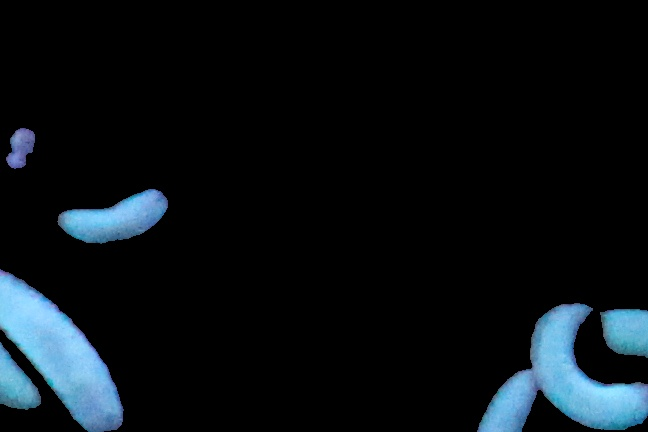larvae: (1, 268, 124, 429), (528, 305, 647, 432), (53, 181, 173, 245), (472, 369, 536, 432), (1, 333, 44, 413)
